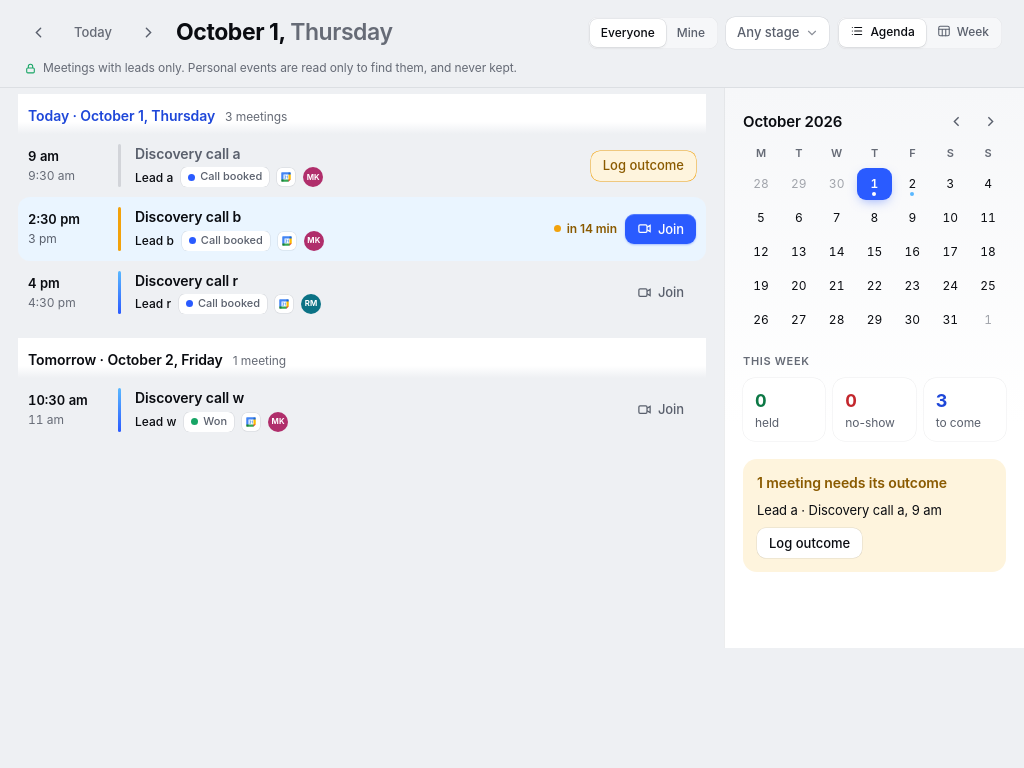
Test case: the Calendar page: whose and which › the stage menu keeps only meetings whose lead is in it
Expected: the element "Discovery call a" is shown, [18,134,706,197]
Click the button "Any stage" at (778, 33), box [726,17,829,49]
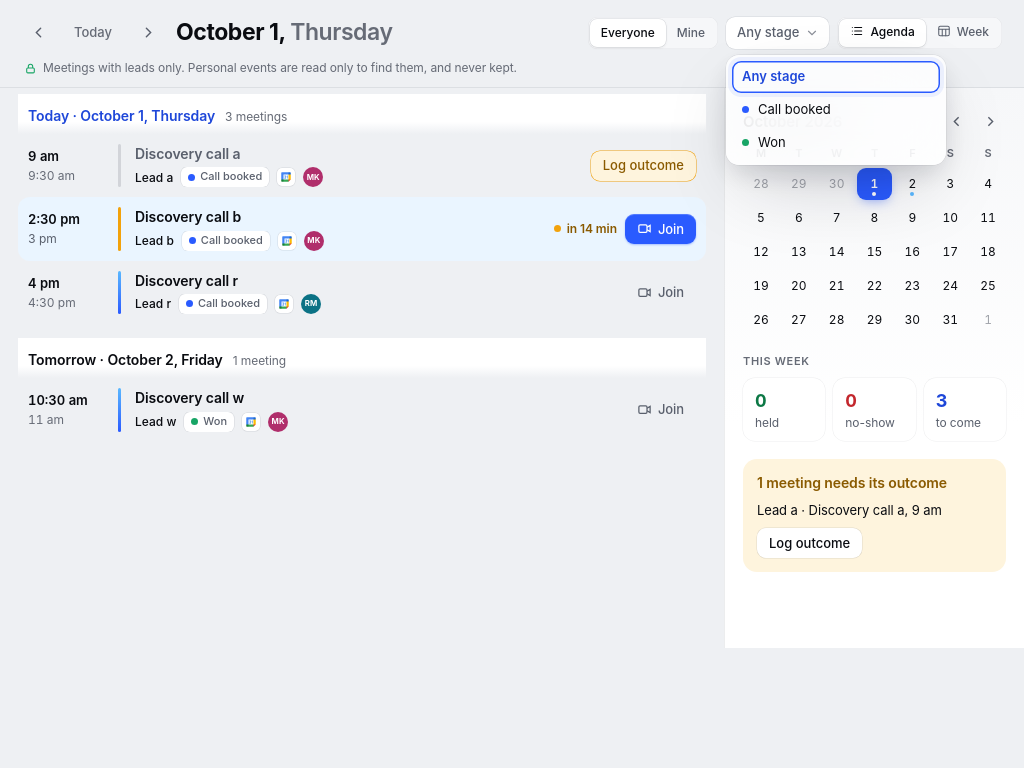
Click the menu item "Won" at (836, 143), box [732,127,940,159]
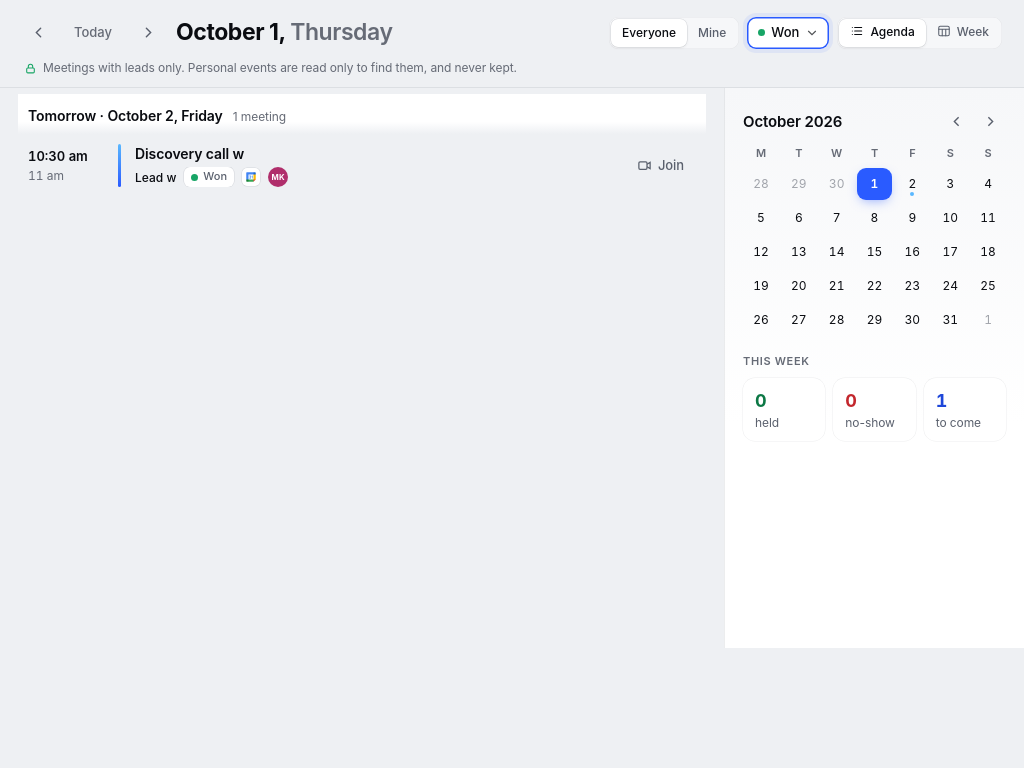
Expected: the element "10:30 am 11 am Discovery call w Lead w Won MK Join" is shown, [18,134,706,197]
Expected: the button "Discovery call a" is gone
